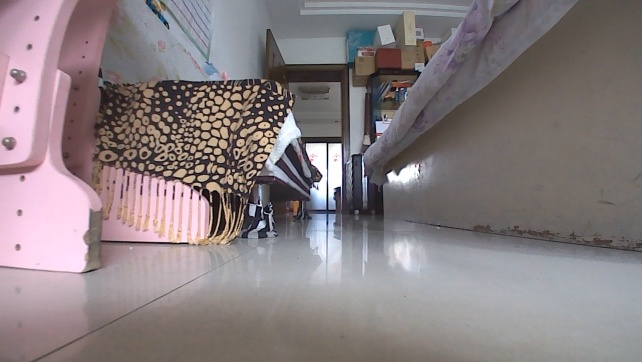bed1: (360, 0, 641, 256)
sofa: (100, 0, 325, 241)
